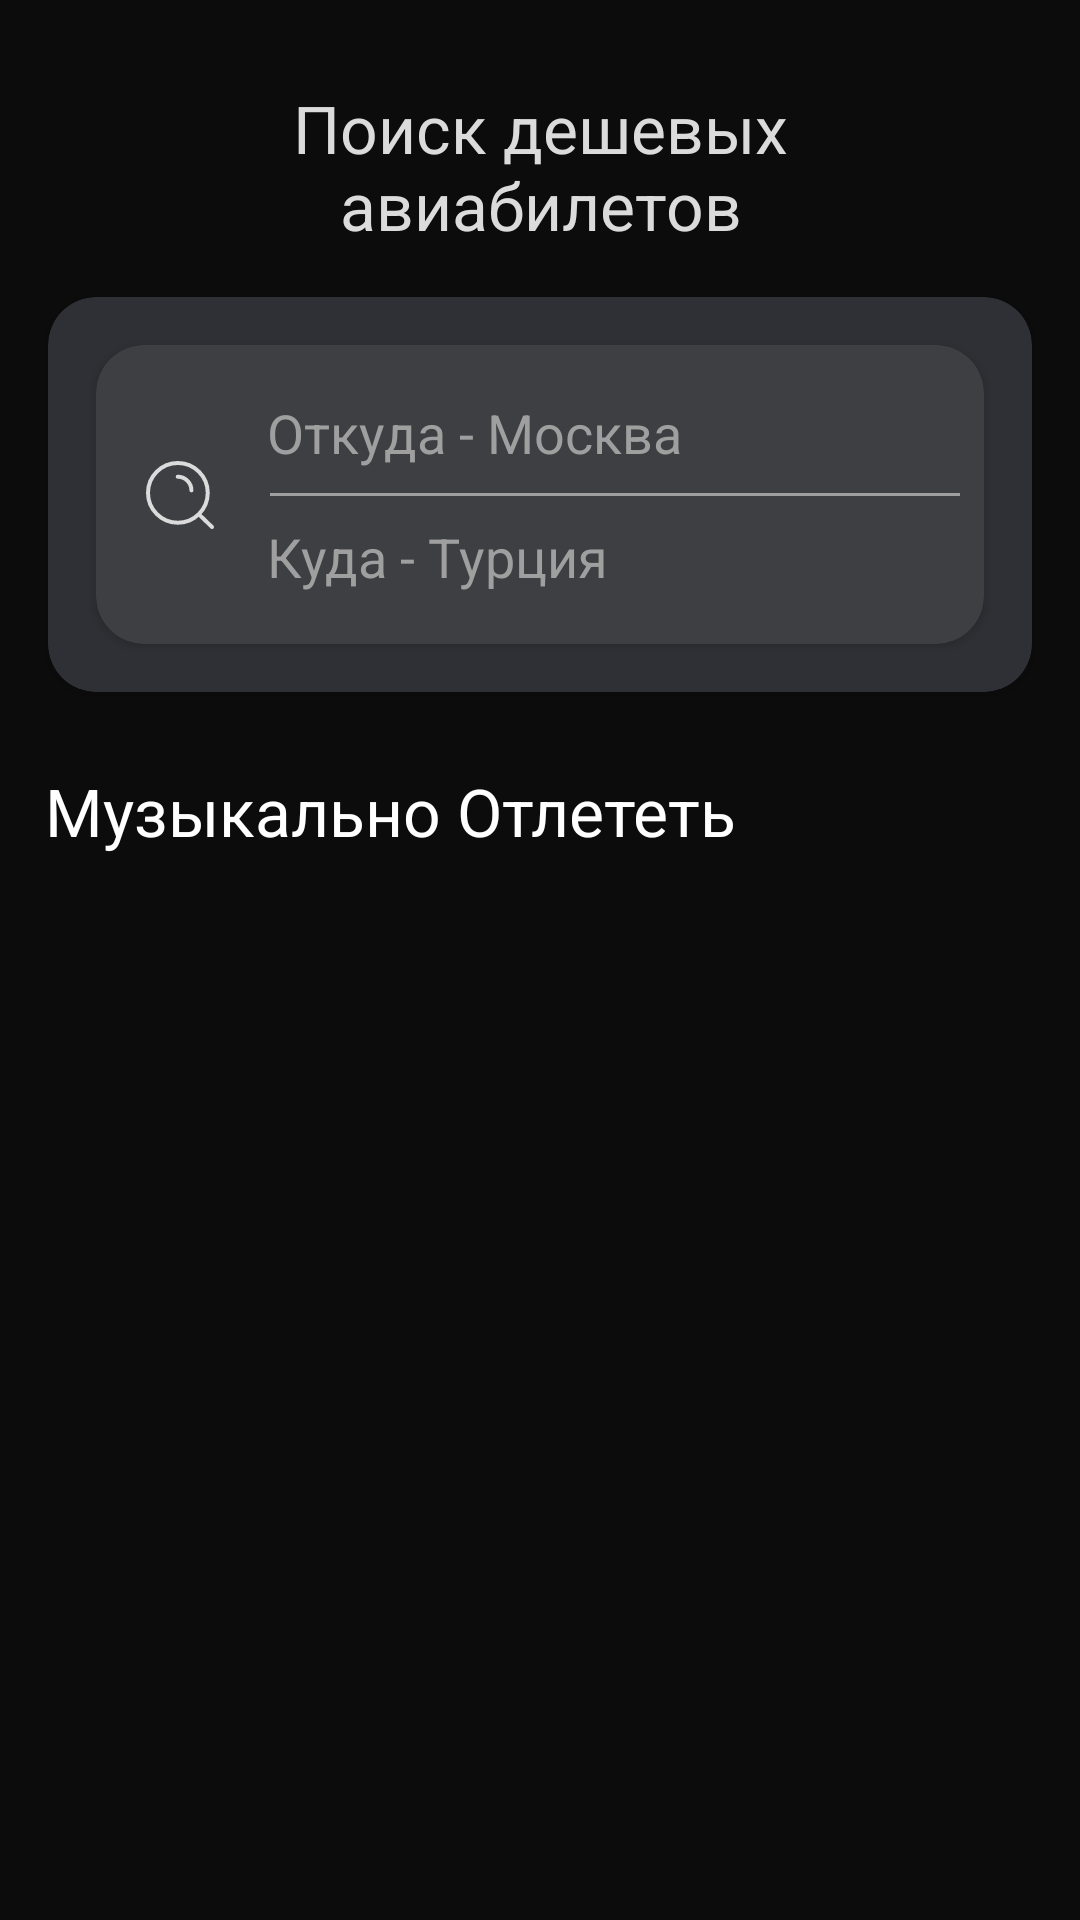

Named icons in this screenshot (1080px x 1920px) and their bounding boxes, box=[x1, y1, x2, y2]:
search: box=[146, 461, 214, 529]
